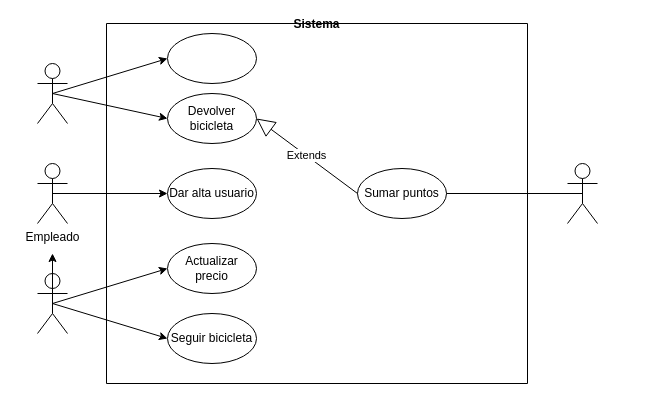
Image size: 645x409. Some labels were removed from this diagram. Here are the shapes that lost their labels. From the top down, the centre of each, then its label:
the point at 211,58: Alquilar bicicleta
the point at 52,93: Usuario
the point at 582,193: Servidor de pago
the point at 52,303: Responsable del área
